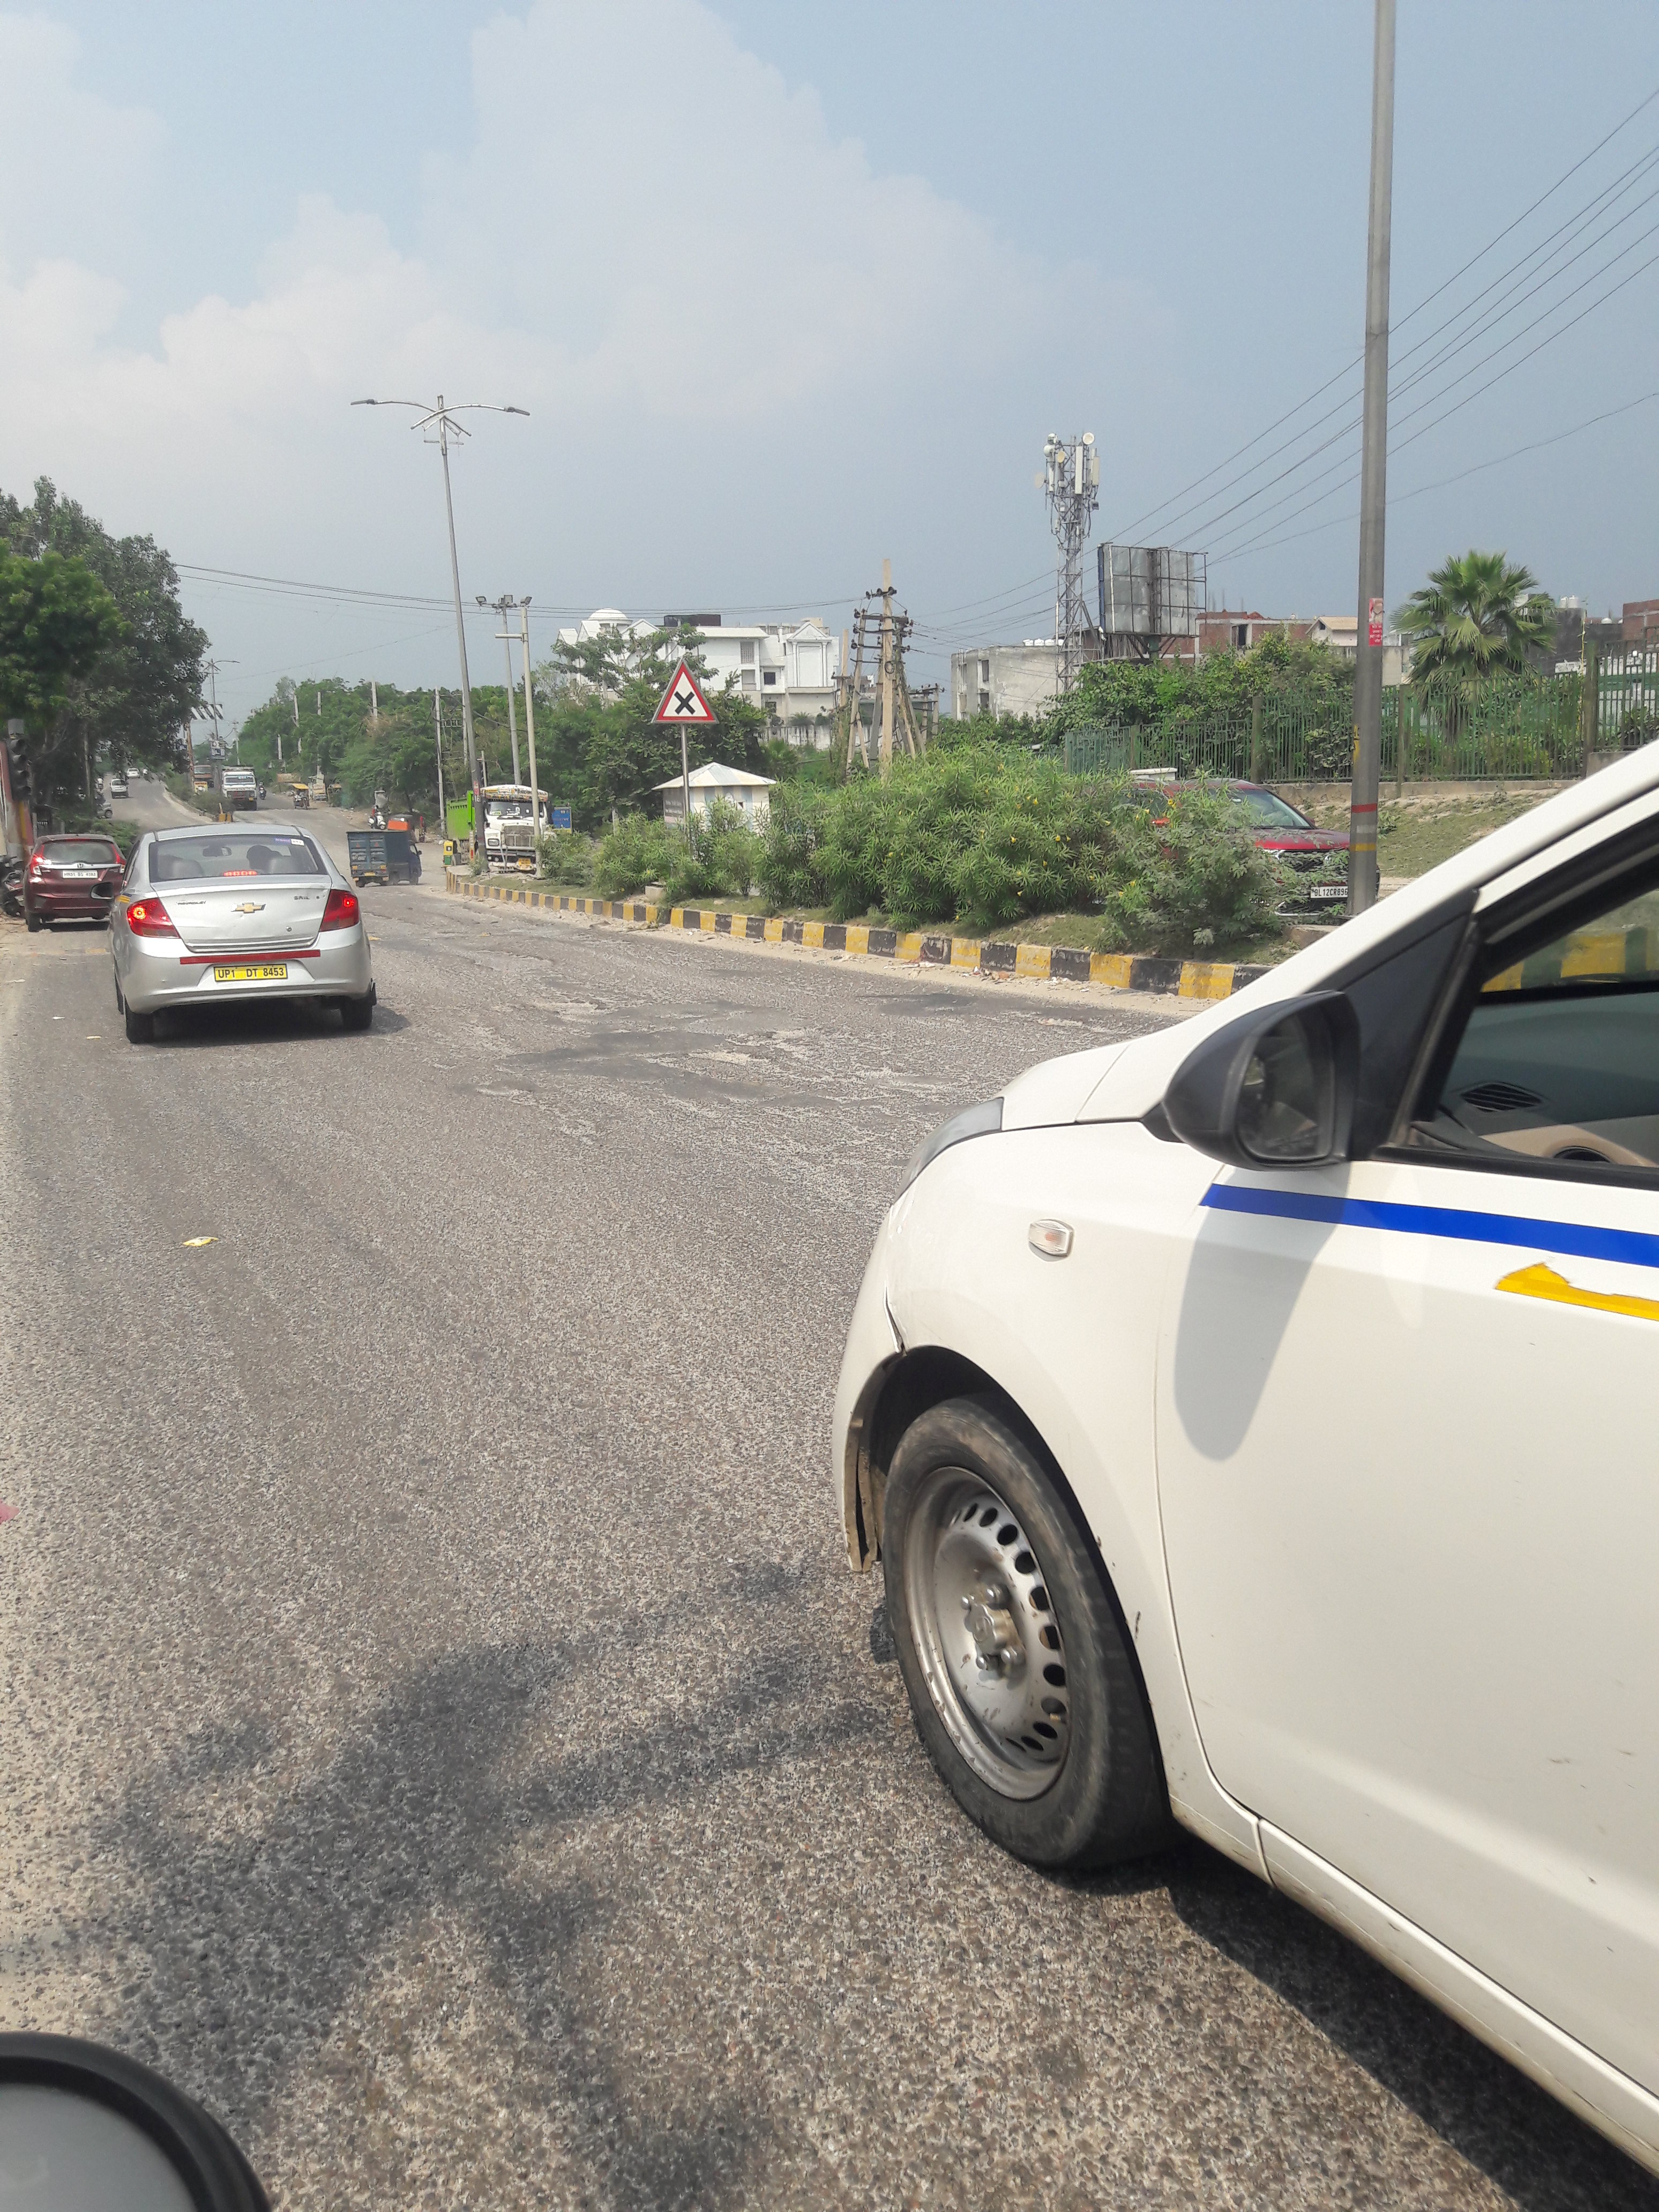traffic_sign: (647, 657, 716, 726), (2, 718, 37, 846)
